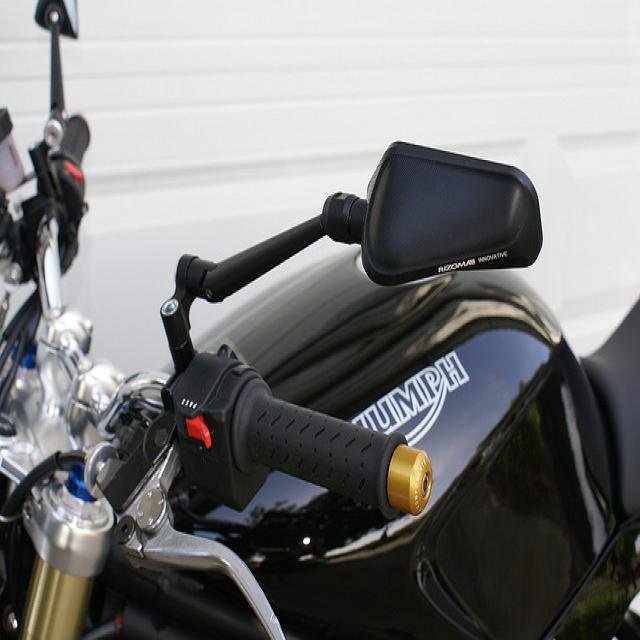motor: (0, 5, 639, 633)
